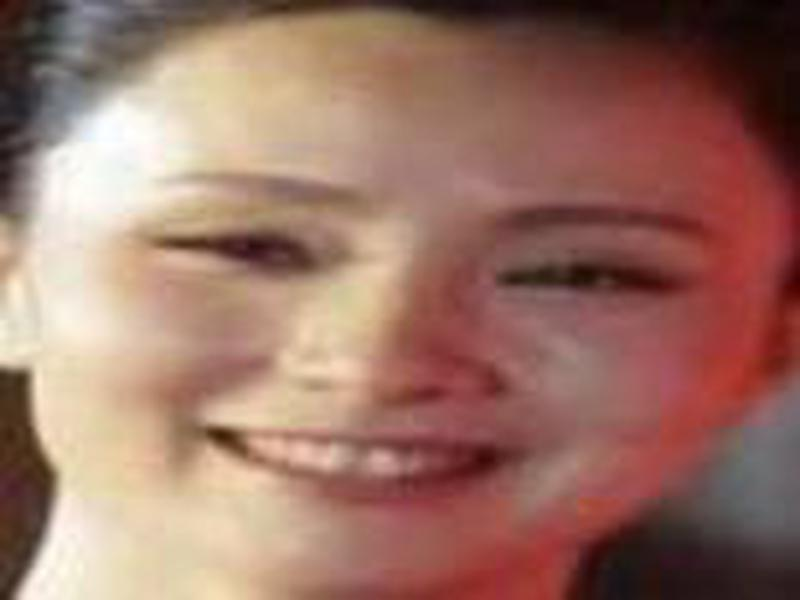without_mask: (32, 72, 770, 589)
